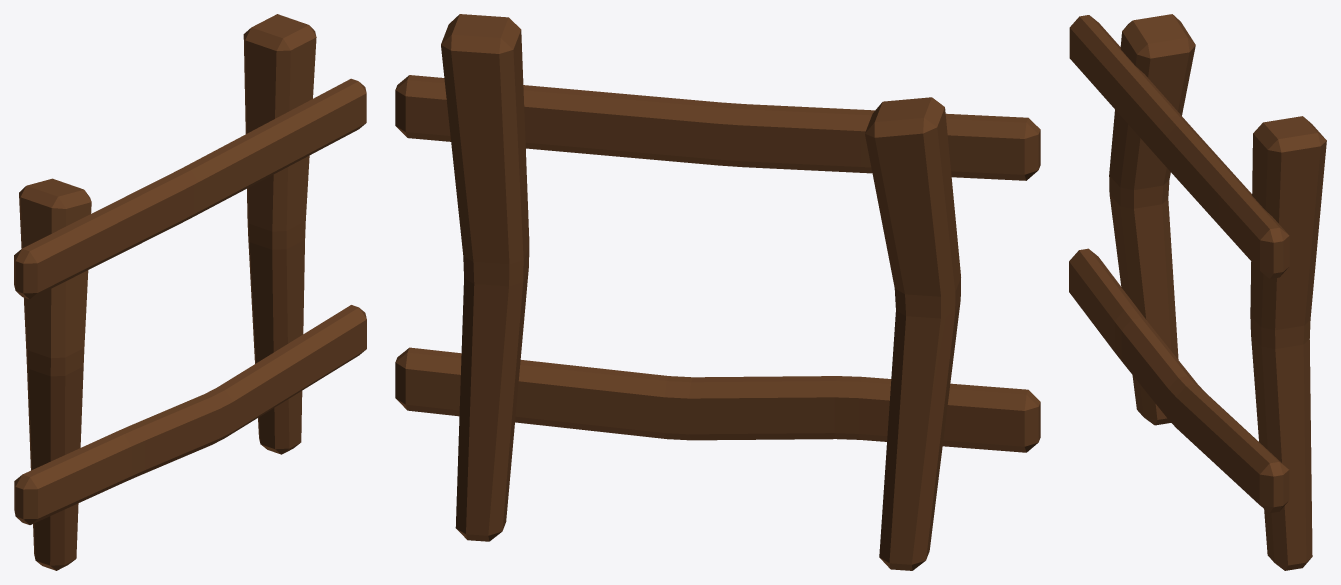
File: Fence02.fbx
3 views of the same model, side by side, from view 1: azimuth 30°, elevation 25°; view 2: azimuth 150°, elevation 25°; view 3: azimuth 270°, elevation 25° (orthographic). The views are drawn at different scales.
Parts seen in each view (by area): view 1: Fence 03; view 2: Fence 03; view 3: Fence 03.
Part boxes in pixels (box(x1,y1,x2,y2)): Fence 03: box(14, 14, 366, 570); Fence 03: box(395, 14, 1040, 570); Fence 03: box(1069, 14, 1326, 570).
Size of the model in its own units: 85.68 by 78.59 by 41.92.
